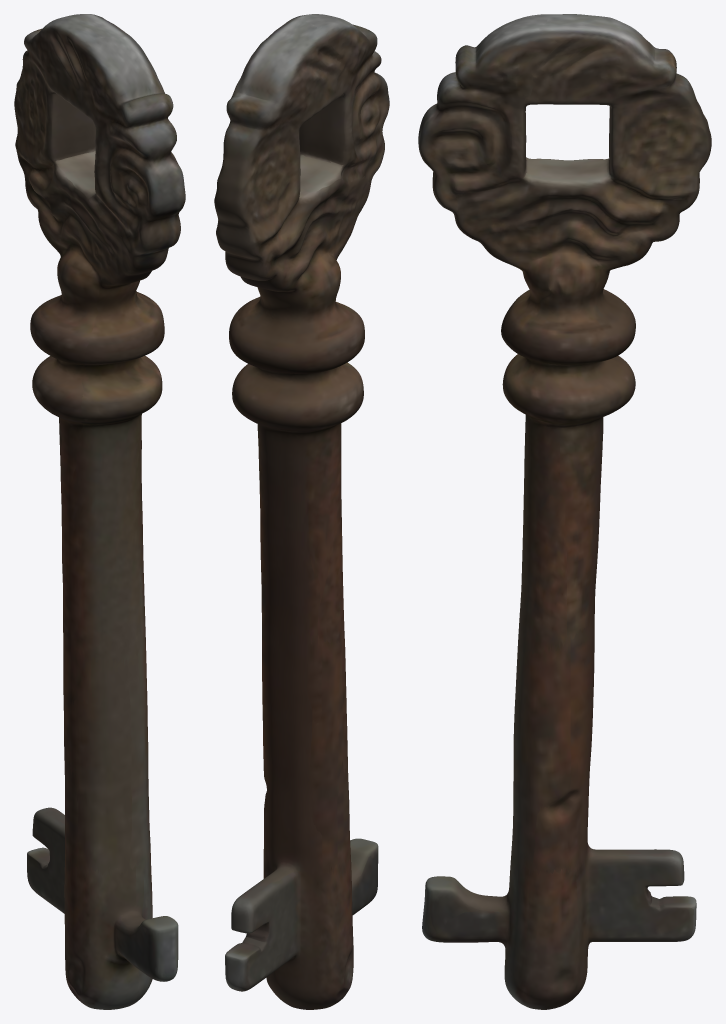
Rendered from Key8.fbx.
3 views of the same model, side by side, from view 1: azimuth 30°, elevation 25°; view 2: azimuth 150°, elevation 25°; view 3: azimuth 270°, elevation 25° (orthographic).
Parts seen in each view (by area): view 1: tripo_node_c6a790f1.008; view 2: tripo_node_c6a790f1.008; view 3: tripo_node_c6a790f1.008.
Part boxes in pixels (x1,y1,x2,y2): tripo_node_c6a790f1.008: (14,14,185,1009); tripo_node_c6a790f1.008: (214,14,389,1009); tripo_node_c6a790f1.008: (418,14,711,1009).
Bounding box in the file's own units: 4.9 × 39.03 × 10.64.
Materials: 1 (1 with a texture image).
